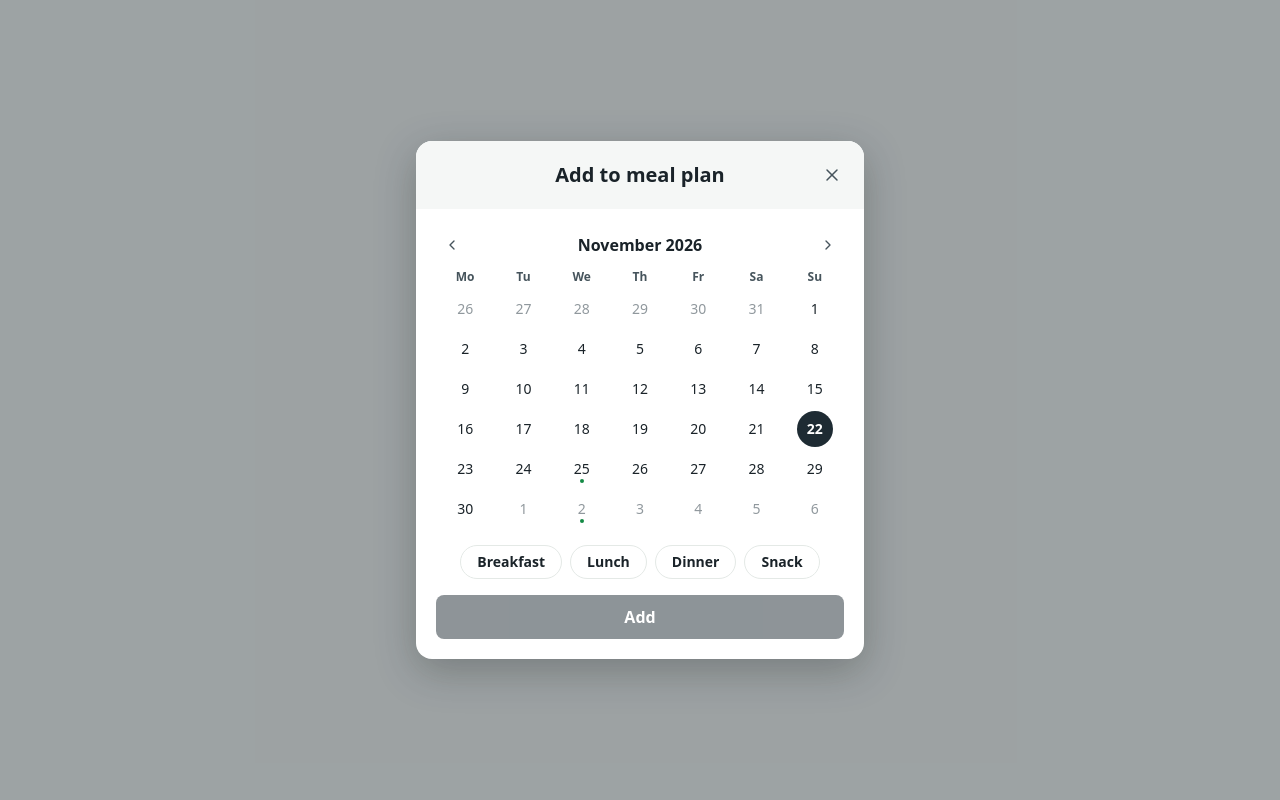
Test: Add to meal plan popup › shows the server's error and lets you try again
The image size is (1280, 800).
What coordinates should you click on to do the following:
click the radio button labelled "Breakfast"
I would click on:
 (511, 562)
Its box is [460,545,562,579].
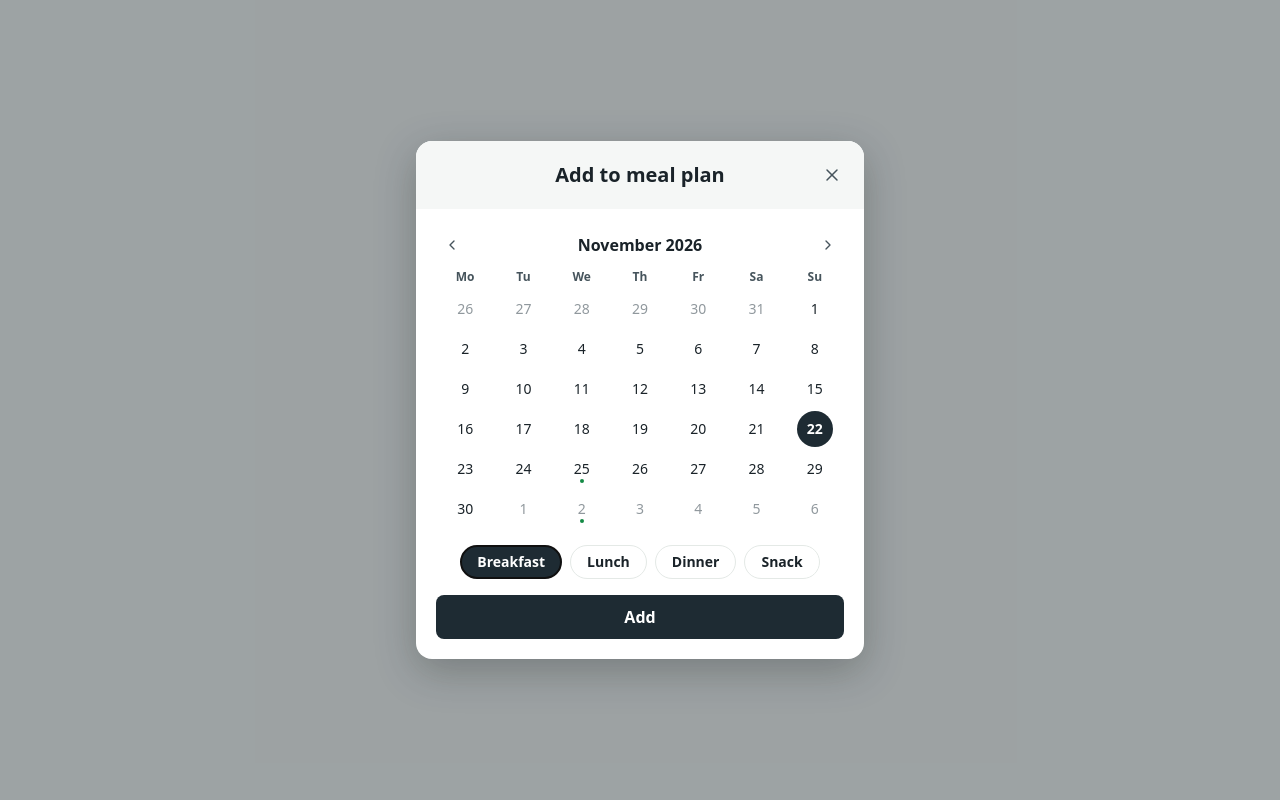
What coordinates should you click on to do the following:
click the button "Add"
I would click on:
 (640, 617)
Its box is [436,595,844,639].
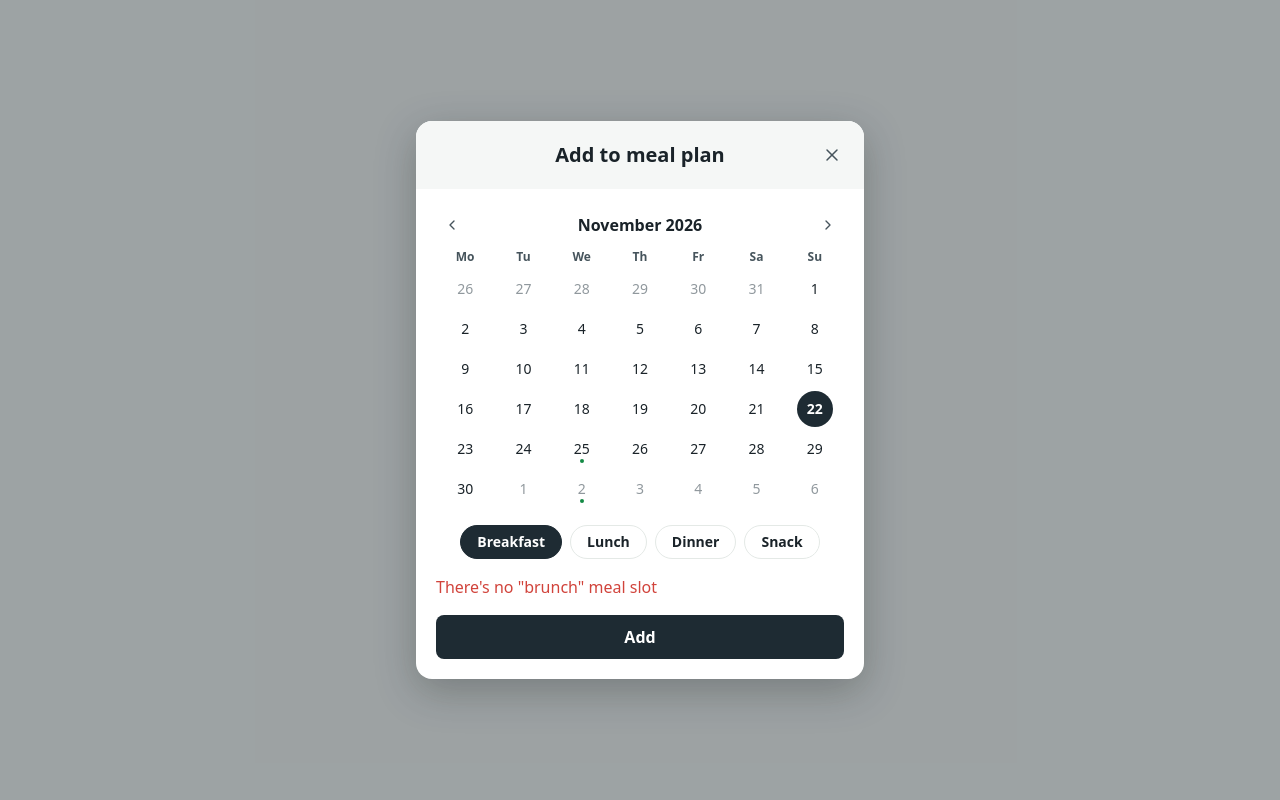
Check: the button "Add" is enabled, box [436,615,844,659]
Check: the message reads "There's no \"brunch\" meal slot", box [436,576,657,598]
